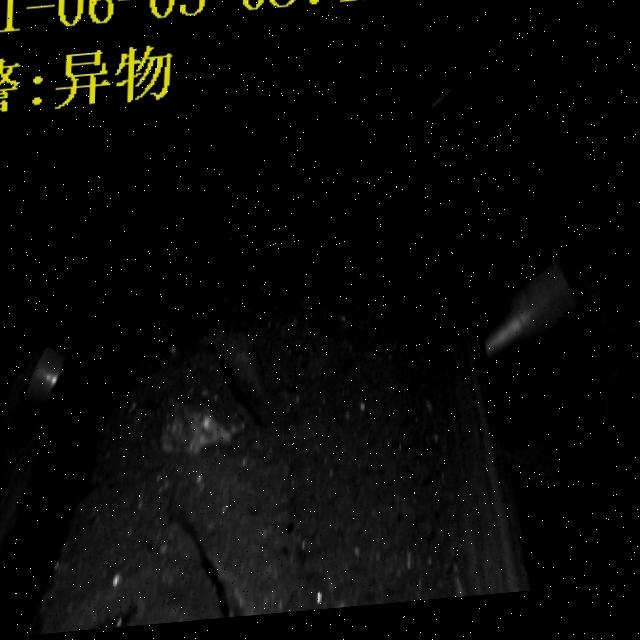bolt: (197, 474, 338, 625)
large_sized_coal: (221, 347, 286, 433), (162, 392, 240, 462)
